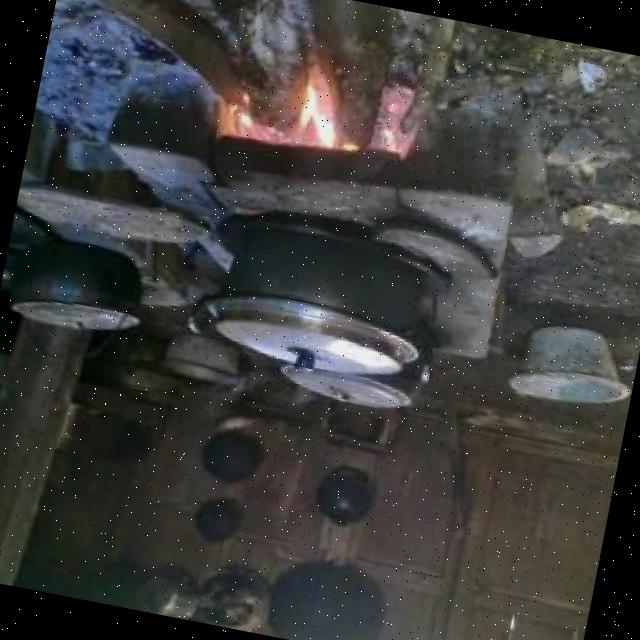fire: (218, 80, 413, 164)
